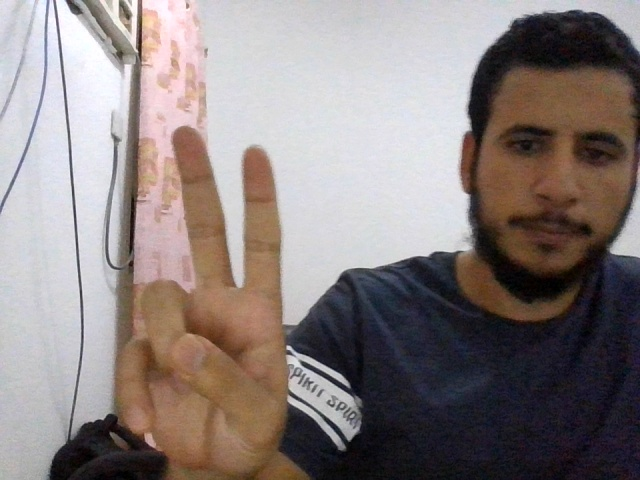Two: (116, 126, 288, 476)
